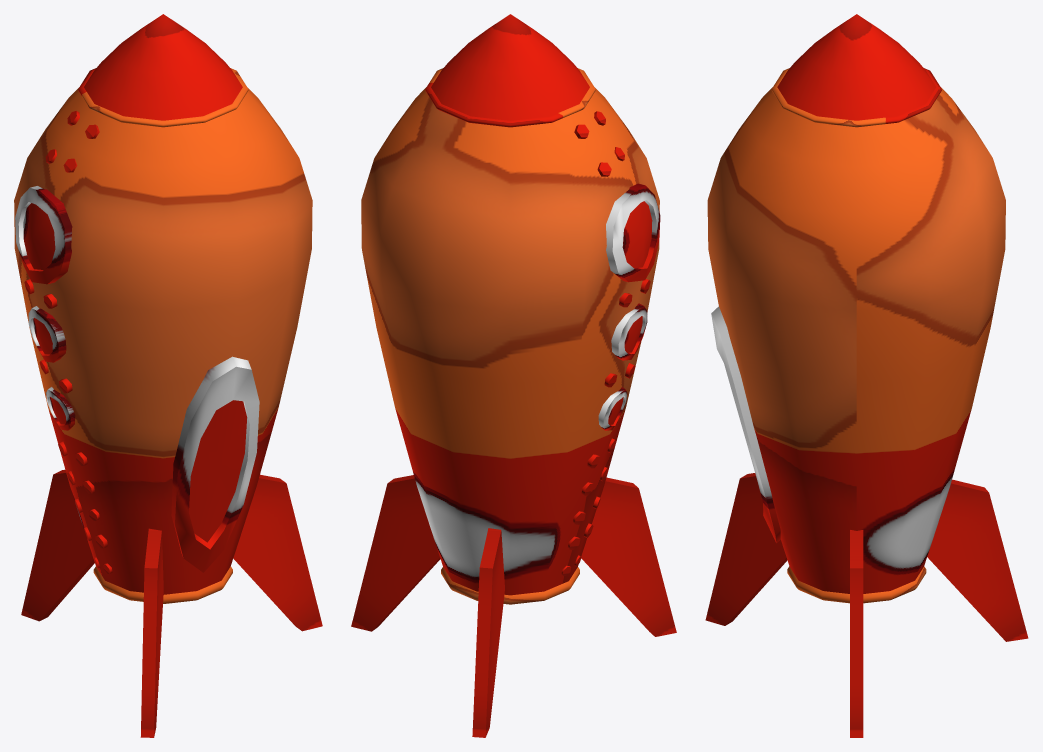
The model's file is Rocket.FBX.
3 views of the same model, side by side, from view 1: azimuth 30°, elevation 25°; view 2: azimuth 150°, elevation 25°; view 3: azimuth 270°, elevation 25° (orthographic).
Visible parts, largest first — view 1: Rocket; view 2: Rocket; view 3: Rocket.
Part boxes in pixels (x1,y1,x2,y2): Rocket: [14, 14, 322, 737]; Rocket: [351, 14, 676, 737]; Rocket: [705, 14, 1028, 737].
Bounding box in the file's own units: 2.2 × 4.67 × 2.11.
